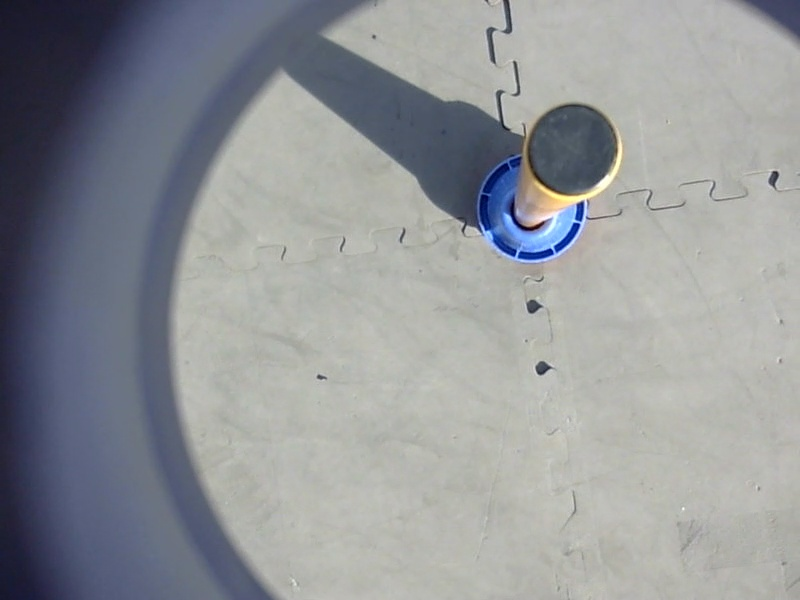tip: (518, 98, 629, 209)
